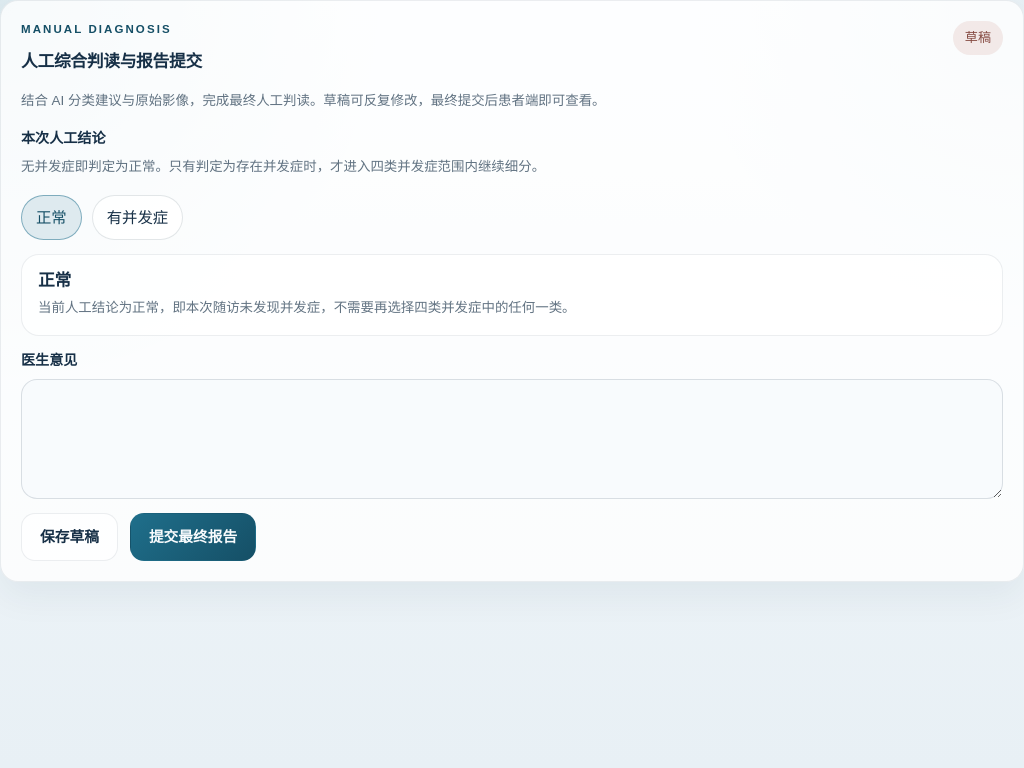
Test: ReportForm › uses normal as the no-complication state and excludes normal from complication categories
Expected: the button "正常" is shown, [21,195,82,240]
Click the button "有并发症" at (137, 218), box [92,195,183,240]
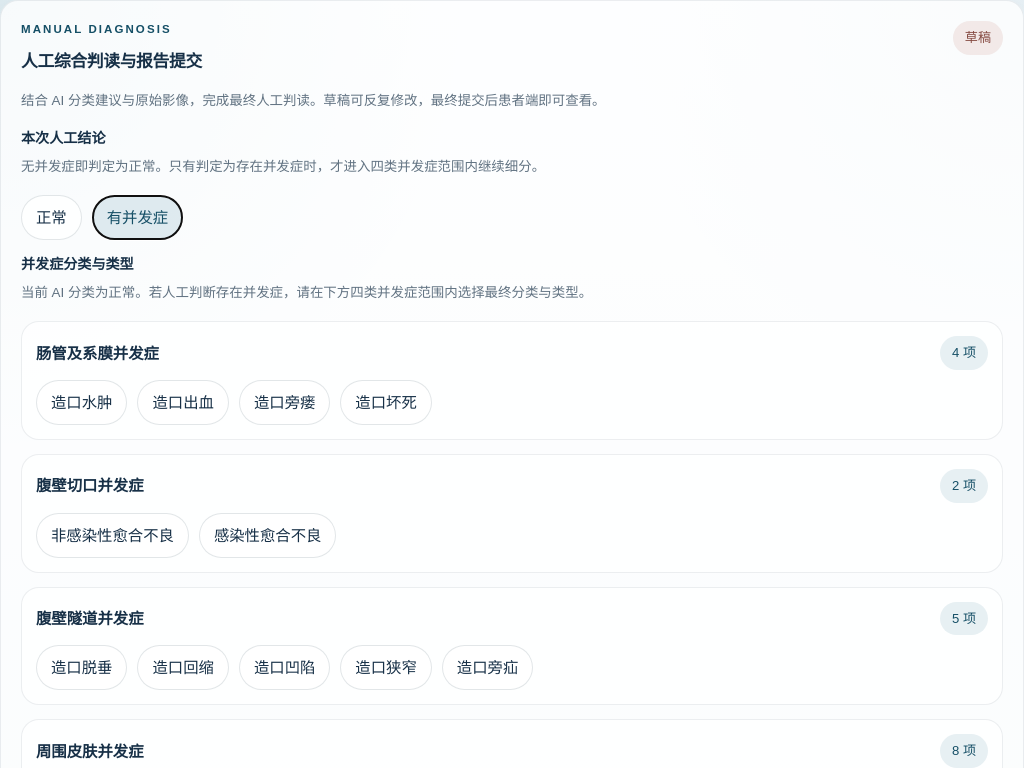
Result: the text "肠管及系膜并发症" is shown at [36,342,159,365]
Result: the text "腹壁切口并发症" is shown at [36,474,144,497]
Result: the text "腹壁隧道并发症" is shown at [36,607,144,630]
